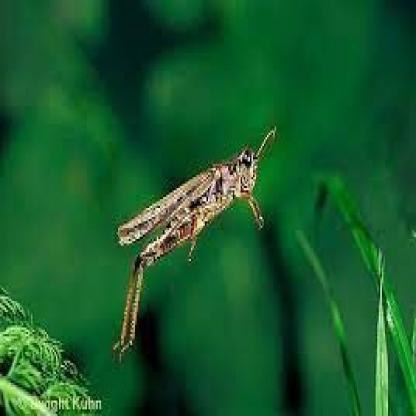grasshopper: (107, 125, 280, 358)
